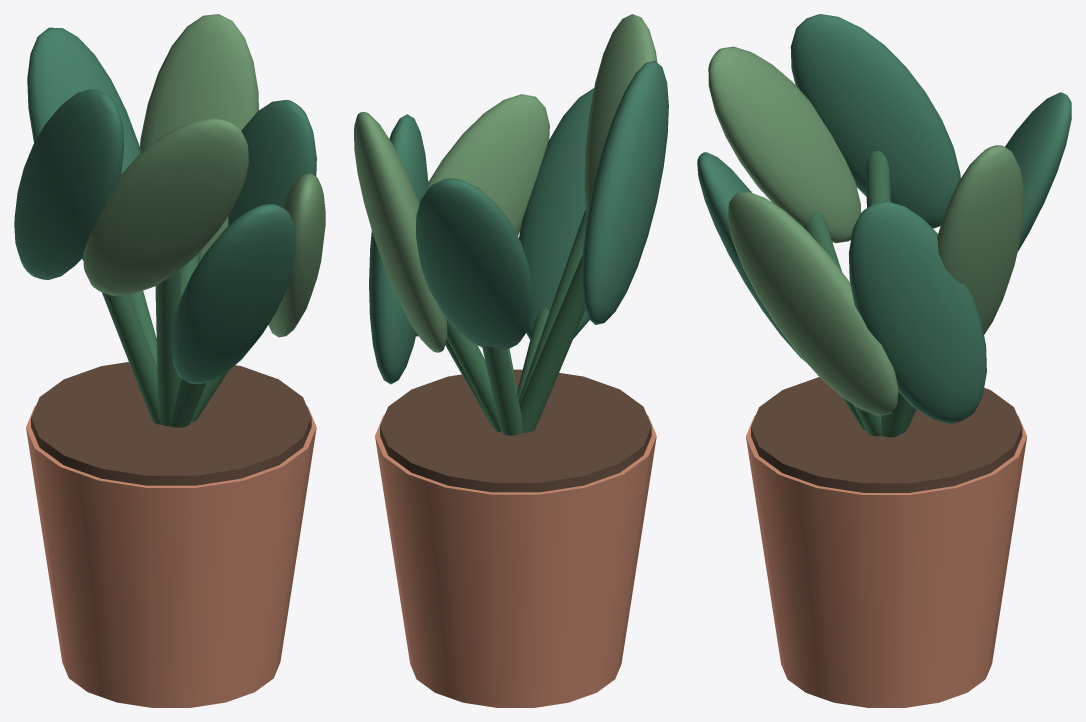
The model's file is objeto-plant.glb.
3 views of the same model, side by side, from view 1: azimuth 30°, elevation 25°; view 2: azimuth 150°, elevation 25°; view 3: azimuth 270°, elevation 25° (orthographic). The views are drawn at different scales.
Parts seen in each view (by area): view 1: equipment:plant; view 2: equipment:plant; view 3: equipment:plant.
Boxes of the visible parts, x1,y1,x2,y2 form: equipment:plant: (14, 14, 325, 707); equipment:plant: (354, 14, 668, 707); equipment:plant: (697, 14, 1071, 707).
Size of the model in its own units: 0.2946 by 0.6595 by 0.3728.
